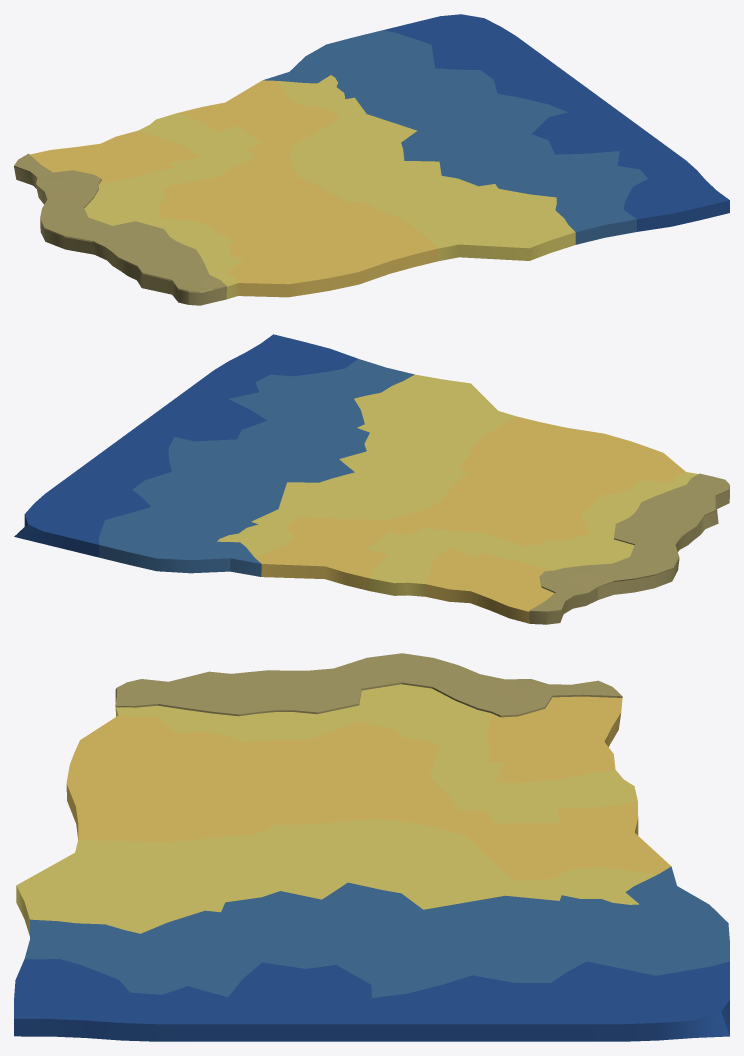
Rendered from Beach.fbx.
3 views of the same model, one above another, from view 1: azimuth 30°, elevation 25°; view 2: azimuth 150°, elevation 25°; view 3: azimuth 270°, elevation 25° (orthographic). The views are drawn at different scales.
Parts seen in each view (by area): view 1: pCube30; view 2: pCube30; view 3: pCube30.
Boxes of the visible parts, bbox=[...] form: pCube30: bbox=[14, 14, 729, 305]; pCube30: bbox=[14, 334, 729, 624]; pCube30: bbox=[14, 653, 729, 1041].
Size of the model in its own units: 45.17 by 1.1 by 37.02.
